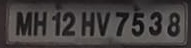character: (14, 10, 31, 35), (80, 10, 95, 37), (114, 11, 130, 36), (95, 11, 110, 36), (130, 10, 144, 36), (33, 10, 46, 36), (62, 10, 75, 36), (148, 11, 161, 36), (167, 11, 180, 36), (51, 10, 60, 36)
